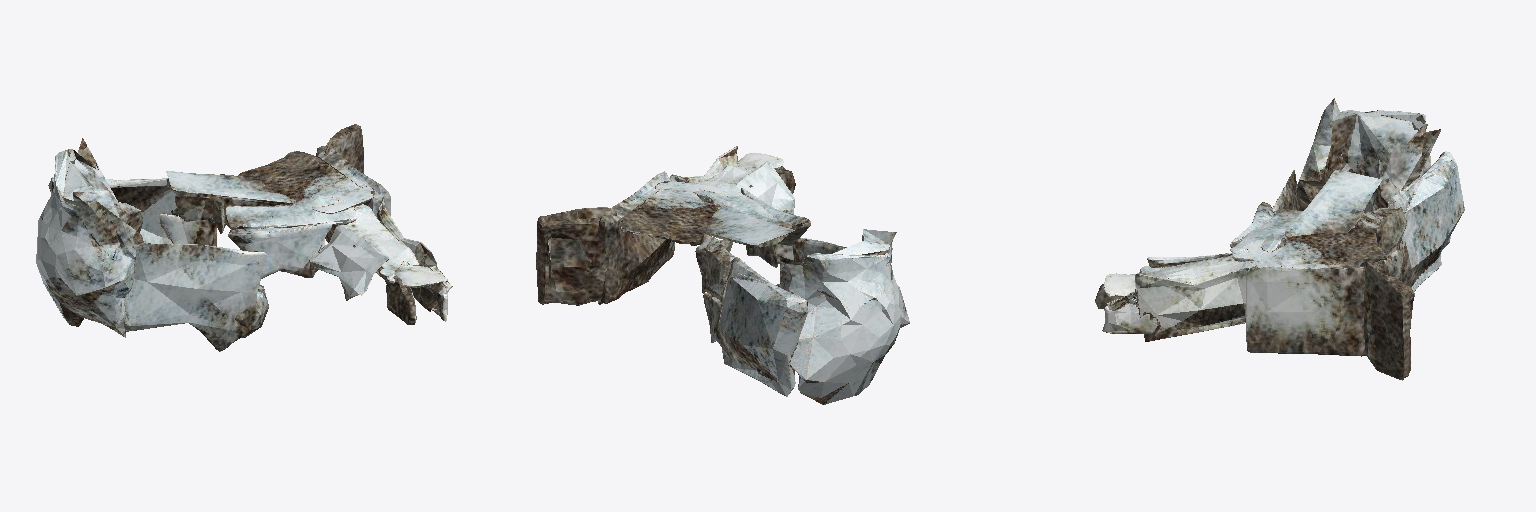
3 views of the same model, side by side, from view 1: azimuth 30°, elevation 25°; view 2: azimuth 150°, elevation 25°; view 3: azimuth 270°, elevation 25° (orthographic).
Parts seen in each view (by area): view 1: 2_mergedObject; view 2: 2_mergedObject; view 3: 2_mergedObject.
Boxes of the visible parts, box(x1,y1,x2,y2) form: 2_mergedObject: box(36, 124, 452, 351); 2_mergedObject: box(536, 146, 909, 404); 2_mergedObject: box(1095, 98, 1464, 380).
Bounding box in the file's own units: 18.47 × 8.64 × 17.37.
Materials: 2 (1 with a texture image).